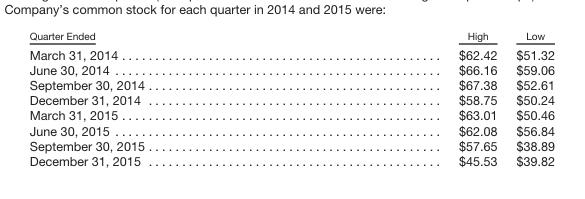table: (28, 28, 554, 168)
table column: (28, 28, 300, 168), (300, 28, 505, 168), (505, 28, 554, 168)
table column header: (28, 28, 554, 43)
table row: (28, 43, 554, 61), (28, 61, 554, 77), (28, 152, 554, 168), (28, 28, 554, 43), (28, 77, 554, 92), (28, 92, 554, 107), (28, 107, 554, 122), (28, 122, 554, 137), (28, 137, 554, 152)
